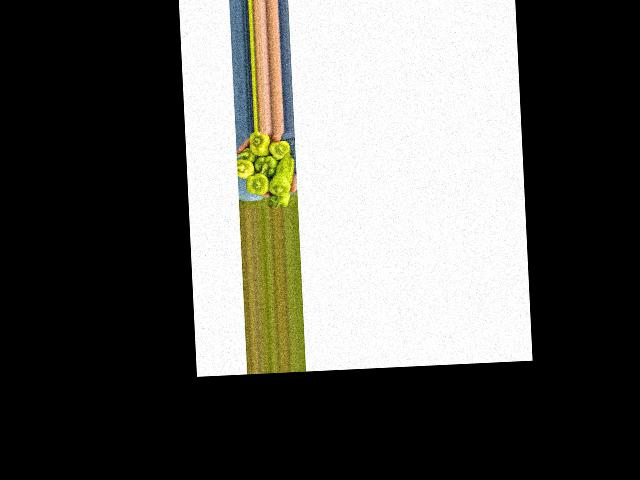bell_pepper: (246, 132, 269, 157)
